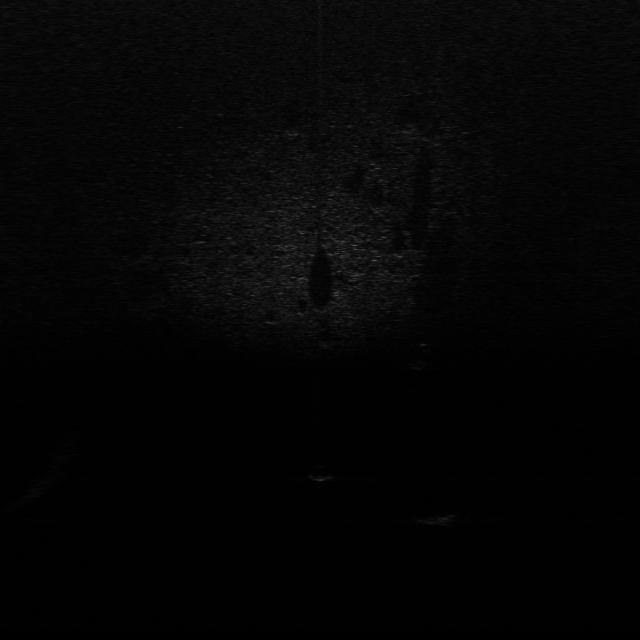ball: (302, 463, 342, 483)
square cage: (418, 512, 471, 528)
tyre: (406, 339, 440, 372)
